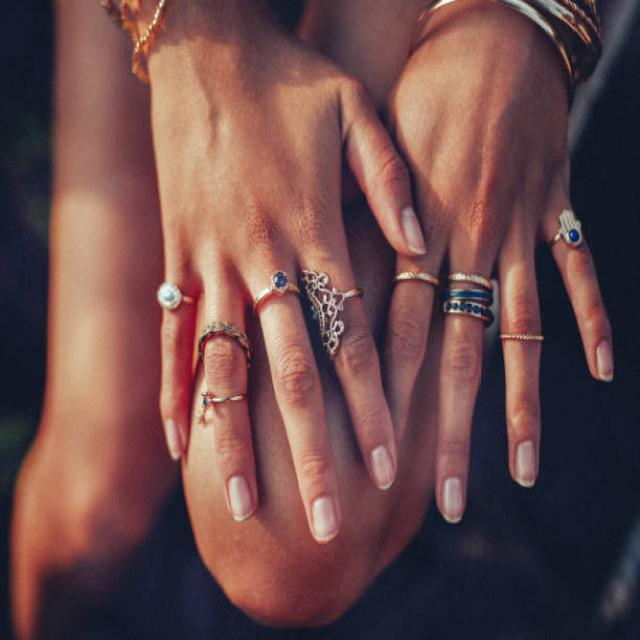Ring: (299, 255, 374, 358), (442, 255, 500, 327), (535, 201, 603, 262), (243, 266, 306, 309), (189, 383, 260, 421), (193, 323, 255, 366), (154, 272, 204, 323), (390, 255, 446, 298), (498, 321, 557, 352)
